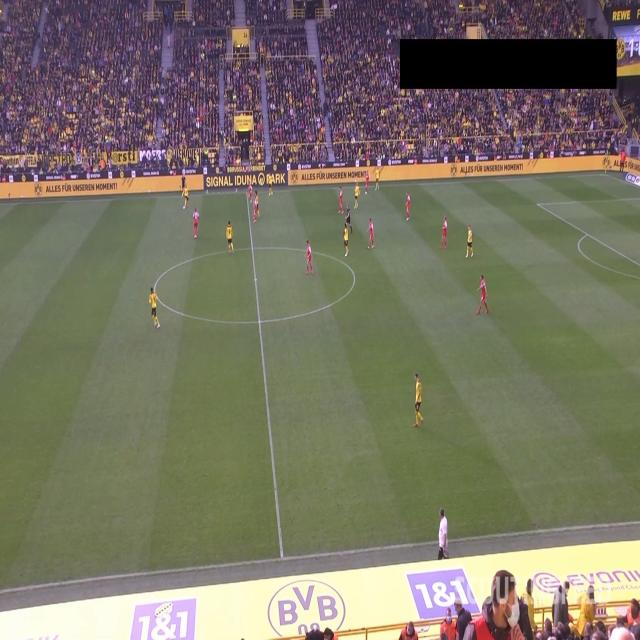ball: (183, 205, 185, 210)
